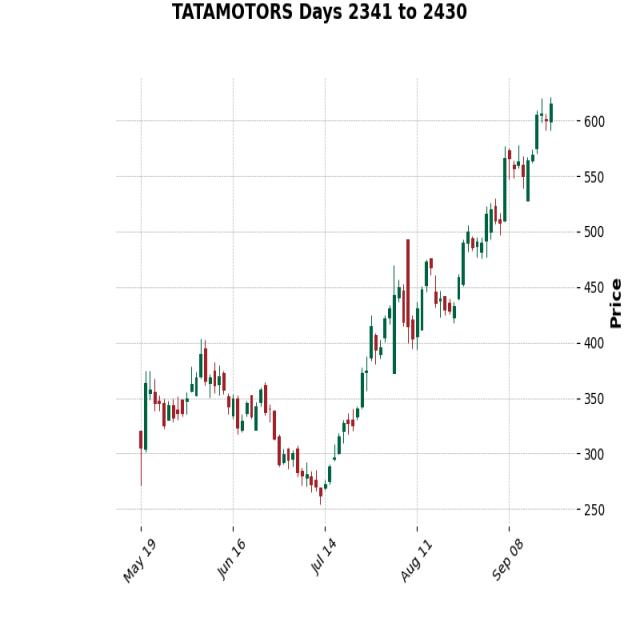Triple Bottom Reversal: (312, 219, 497, 510)
